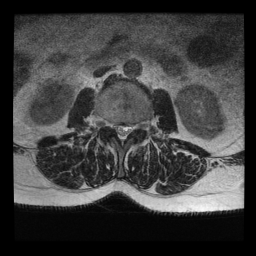CCS_normal: (119, 116, 125, 150)
LFS_normal: (132, 116, 140, 136)
LLS_stenosis: (125, 117, 132, 142)
RFS_stenosis: (105, 114, 112, 134)
RLS_normal: (112, 117, 119, 141)
